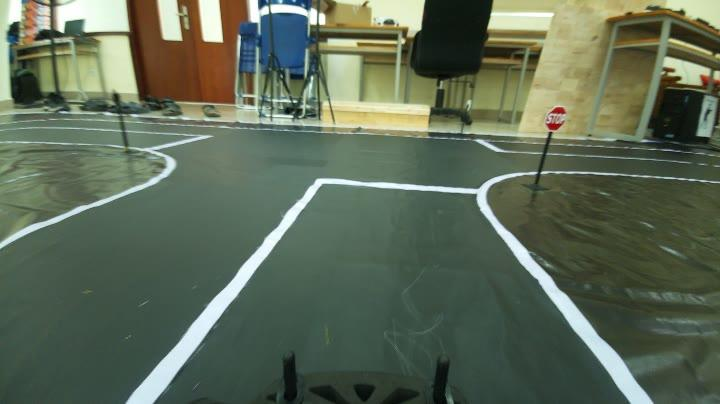stop: (540, 102, 572, 132)
